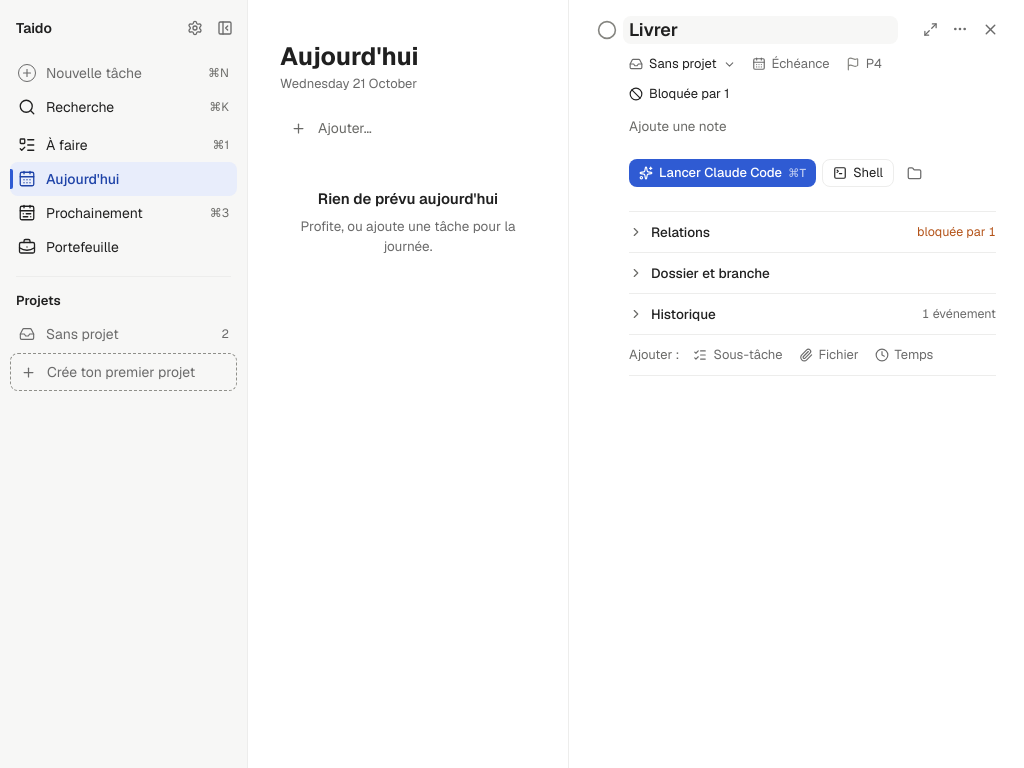
Test: task panel, layout C › says « Bloquée par » under the title and opens the relations
Check: the text box named "Titre de la tâche" is shown, box [623,16,898,44]
Check: the text "Valider la maquette" is not shown
Click the button "Bloquée par 1". click: (679, 94)
box: [623,80,735,108]
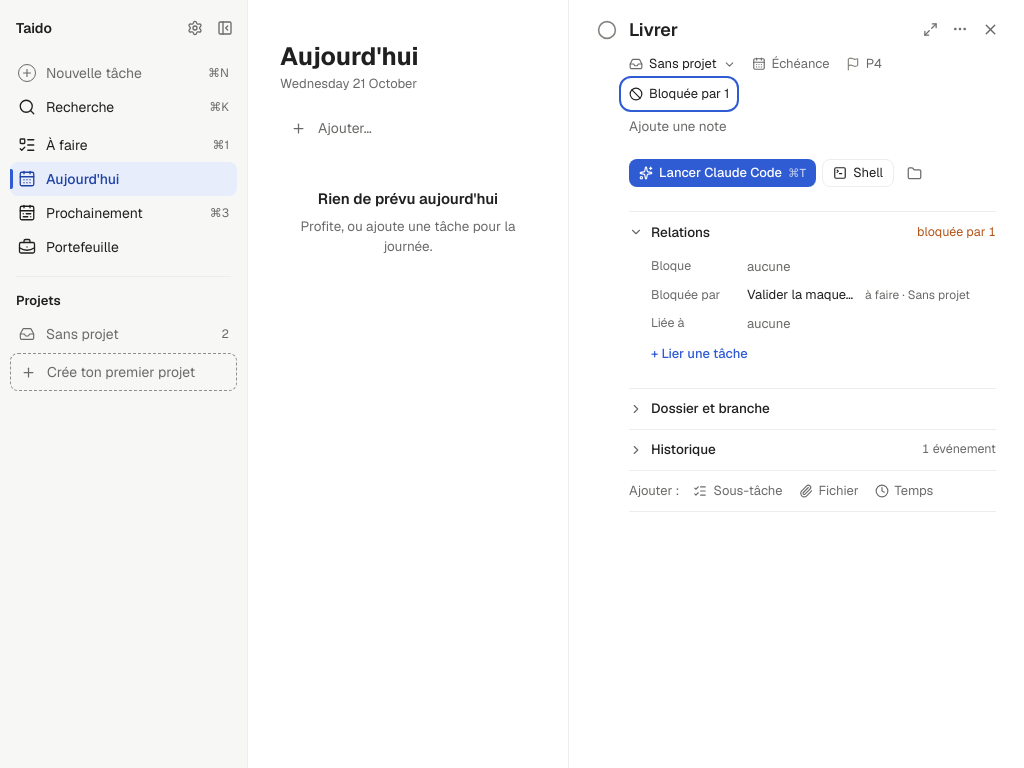
Check: the button "Valider la maquette" is shown, box [747,285,859,305]
